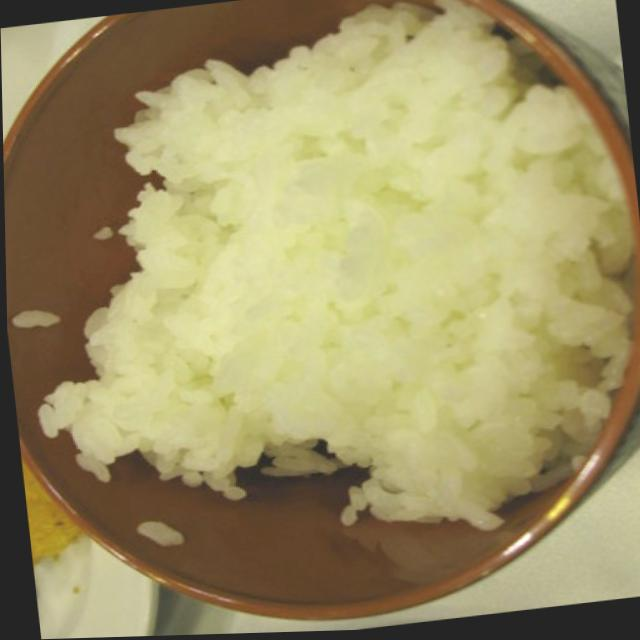米饭主食: (2, 0, 637, 553)
